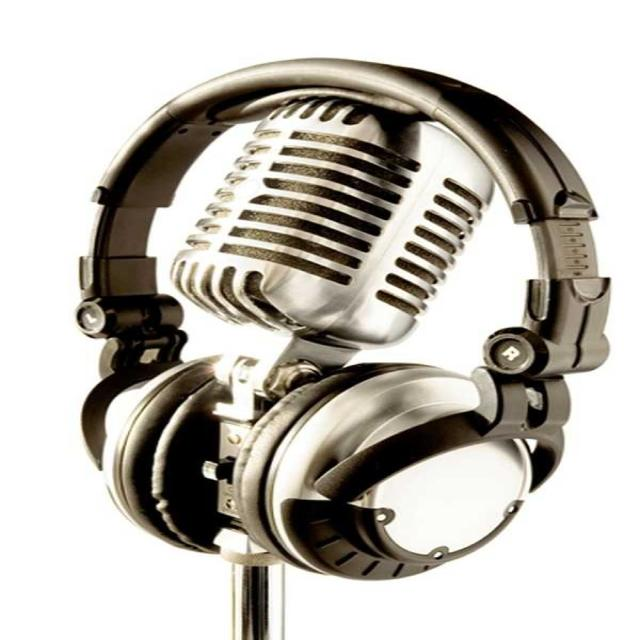microphone: (177, 99, 488, 346)
